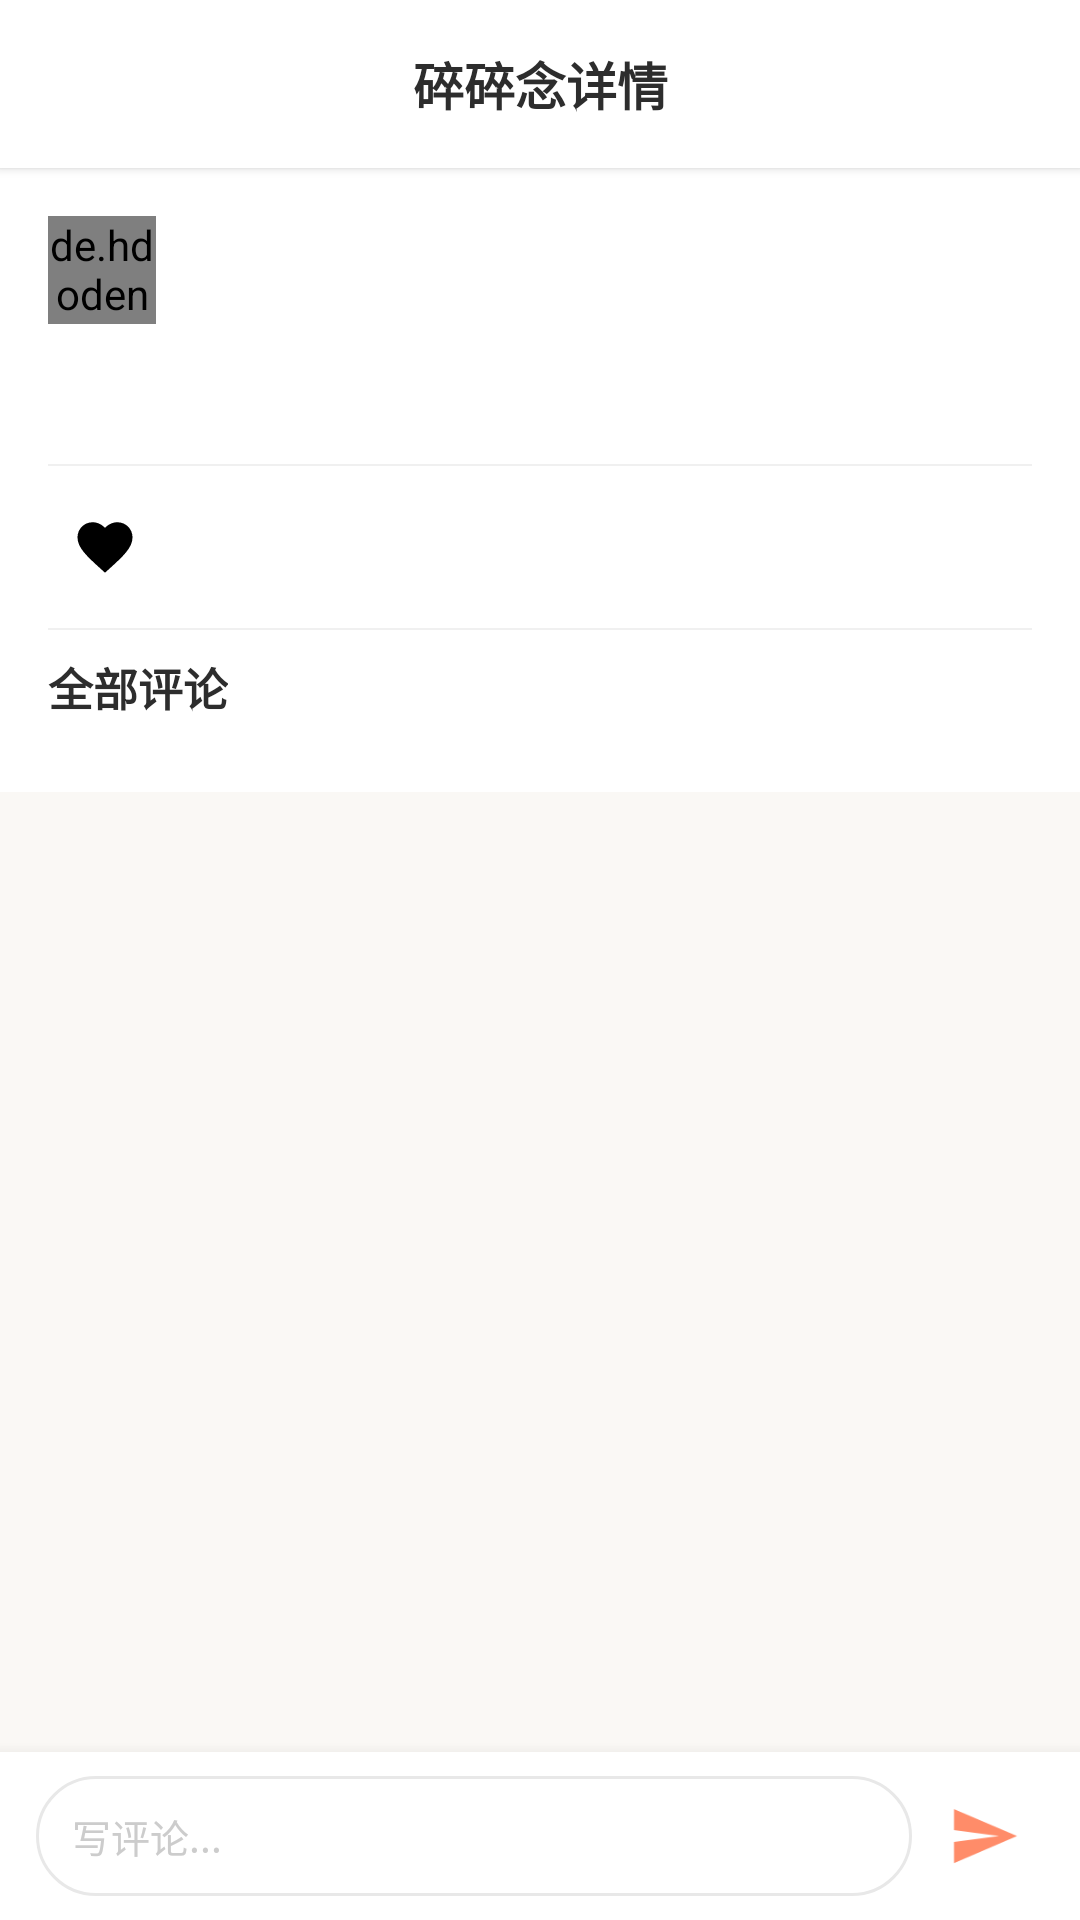

Icon click points for this 1080 × 1920 phone screenshot, format (x,y):
like: (105,547)
send: (985,1836)
